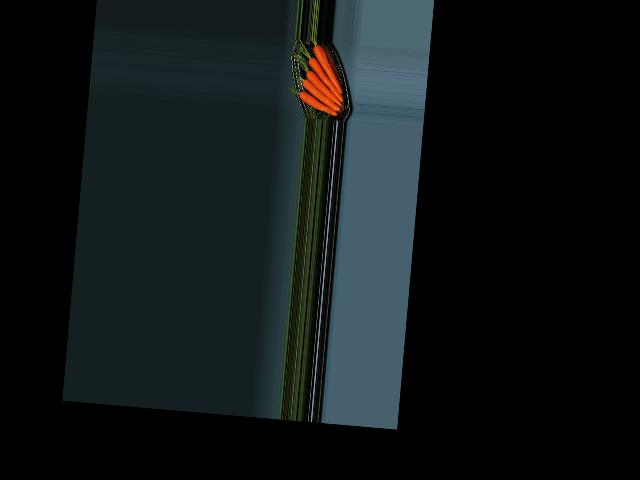carrot: (298, 94, 339, 117)
